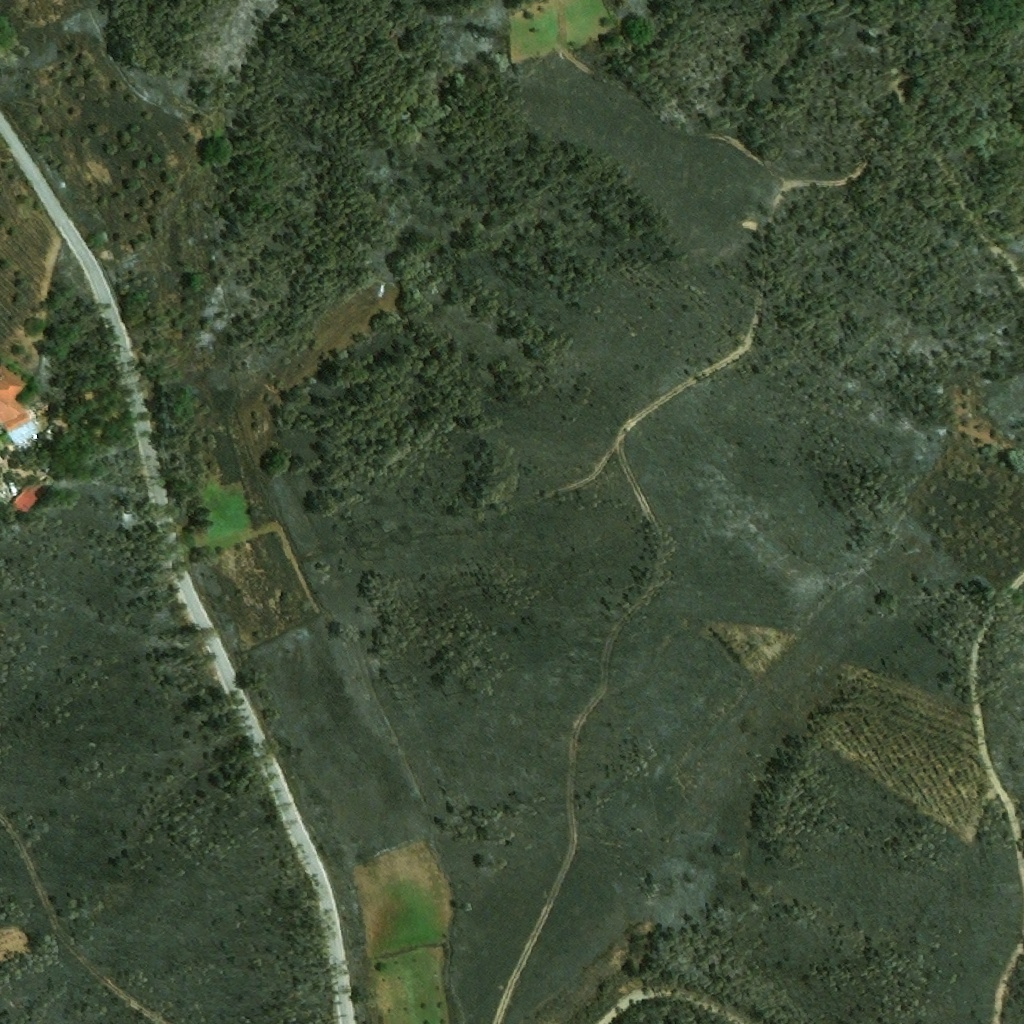0 no-damage: (0, 365, 30, 435), (10, 479, 50, 515)
3 destroyed: (30, 400, 50, 419)
